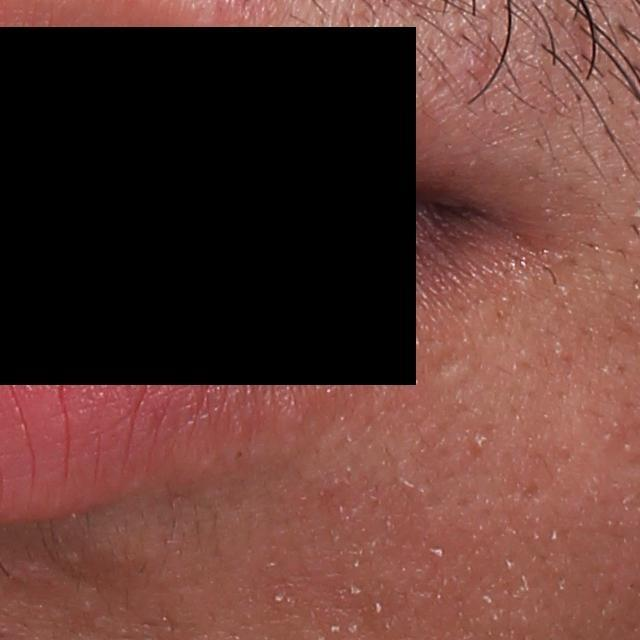papule: (459, 32, 491, 86)
